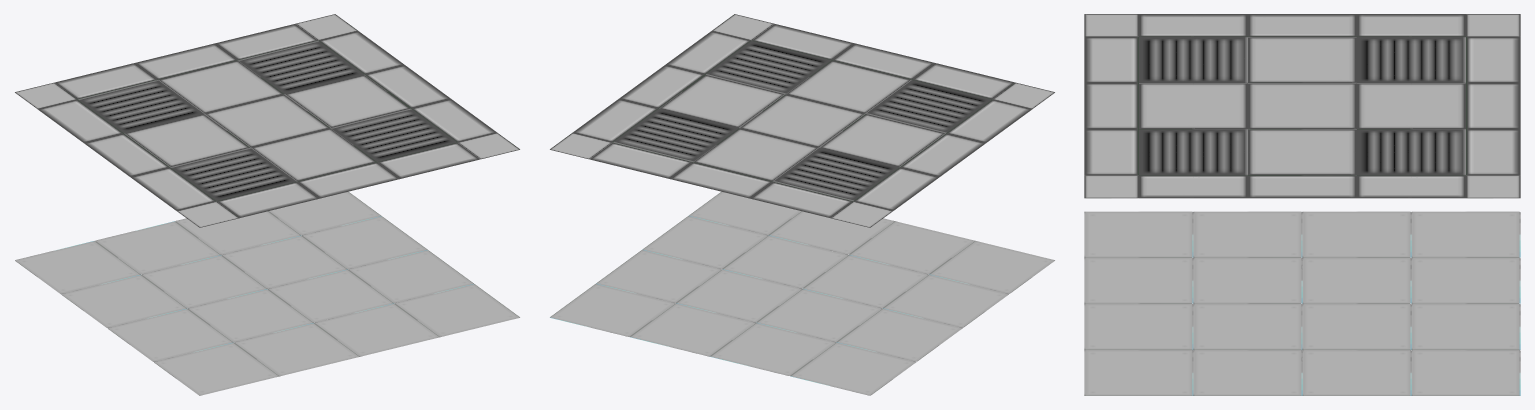
File: room_1.fbx
3 views of the same model, side by side, from view 1: azimuth 30°, elevation 25°; view 2: azimuth 150°, elevation 25°; view 3: azimuth 270°, elevation 25° (orthographic). The views are drawn at different scales.
Parts seen in each view (by area): view 1: Cube_012; view 2: Cube_012; view 3: Cube_012.
Boxes of the visible parts, x1=… form: Cube_012: x1=15, y1=14, x2=519, y2=395; Cube_012: x1=550, y1=14, x2=1054, y2=395; Cube_012: x1=1084, y1=14, x2=1520, y2=395.
Size of the model in its own units: 16 by 8 by 16.
